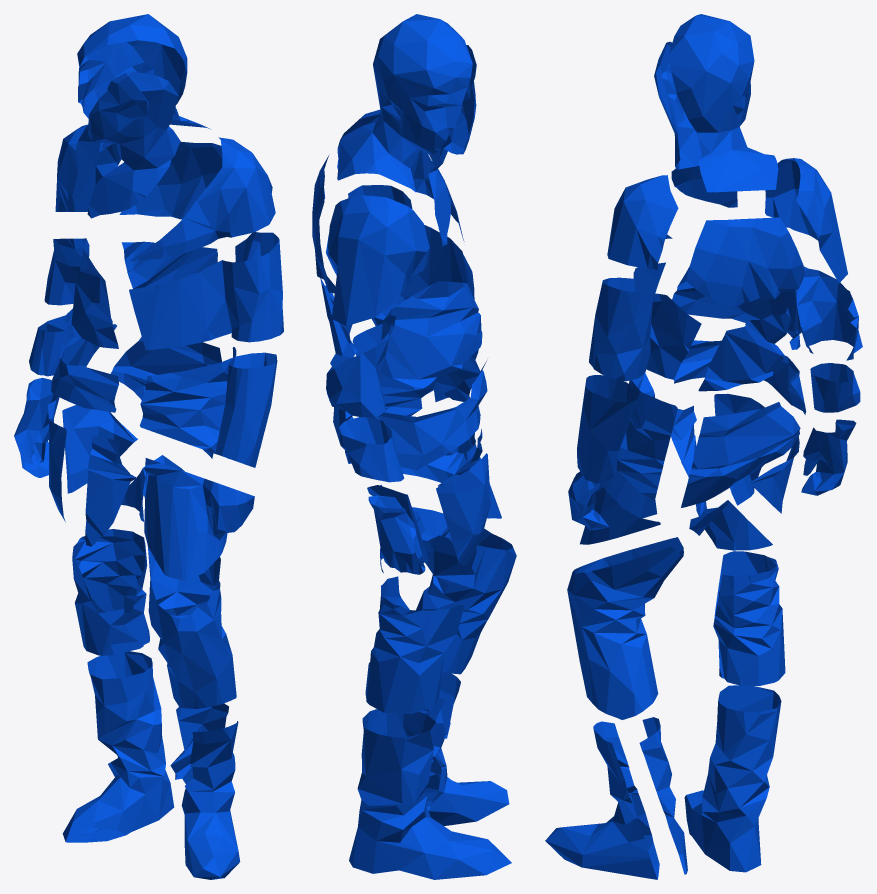
File: per2frac.fbx
3 renders of one model, left to right at view 1: azimuth 30°, elevation 25°; view 2: azimuth 150°, elevation 25°; view 3: azimuth 270°, elevation 25°, orthographic. The views are drawn at different scales.
Parts seen in each view (by area): view 1: lowpolyCharacterBorder_156_fracturepart6, lowpolyCharacterBorder_156_fracturepart2, lowpolyCharacterBorder_156_fracturepart14, lowpolyCharacterBorder_156_fracturepart8, lowpolyCharacterBorder_156_fracturepart5, lowpolyCharacterBorder_156_fracturepart1, lowpolyCharacterBorder_156_fracturepart18, lowpolyCharacterBorder_156_fracturepart12, lowpolyCharacterBorder_156_fracturepart4, lowpolyCharacterBorder_156_fracturepart20, lowpolyCharacterBorder_156_fracturepart13, lowpolyCharacterBorder_156_fracturepart7 (+11 smaller); view 2: lowpolyCharacterBorder_156_fracturepart6, lowpolyCharacterBorder_156_fracturepart20, lowpolyCharacterBorder_156_fracturepart13, lowpolyCharacterBorder_156_fracturepart3, lowpolyCharacterBorder_156_fracturepart18, lowpolyCharacterBorder_156_fracturepart8, lowpolyCharacterBorder_156_fracturepart4, lowpolyCharacterBorder_156_fracturepart19_4, lowpolyCharacterBorder_156_fracturepart11, lowpolyCharacterBorder_156_fracturepart14, lowpolyCharacterBorder_156_fracturepart2, lowpolyCharacterBorder_156_fracturepart19 (+8 smaller); view 3: lowpolyCharacterBorder_156_fracturepart8, lowpolyCharacterBorder_156_fracturepart20, lowpolyCharacterBorder_156_fracturepart6, lowpolyCharacterBorder_156_fracturepart14, lowpolyCharacterBorder_156_fracturepart2, lowpolyCharacterBorder_156_fracturepart18, lowpolyCharacterBorder_156_fracturepart7, lowpolyCharacterBorder_156_fracturepart4, lowpolyCharacterBorder_156_fracturepart16, lowpolyCharacterBorder_156_fracturepart13, lowpolyCharacterBorder_156_fracturepart3, lowpolyCharacterBorder_156_fracturepart12 (+11 smaller).
Part boxes in pixels (x1,y1,x2,y2): lowpolyCharacterBorder_156_fracturepart6: (62,651,174,842); lowpolyCharacterBorder_156_fracturepart2: (129,232,283,350); lowpolyCharacterBorder_156_fracturepart14: (139,347,277,467); lowpolyCharacterBorder_156_fracturepart8: (148,547,236,708); lowpolyCharacterBorder_156_fracturepart5: (86,71,180,218); lowpolyCharacterBorder_156_fracturepart1: (144,458,254,580); lowpolyCharacterBorder_156_fracturepart18: (72,529,149,655); lowpolyCharacterBorder_156_fracturepart12: (129,137,275,261); lowpolyCharacterBorder_156_fracturepart4: (181,721,240,879); lowpolyCharacterBorder_156_fracturepart20: (77,14,210,152); lowpolyCharacterBorder_156_fracturepart13: (44,238,118,348); lowpolyCharacterBorder_156_fracturepart7: (119,141,222,219); lowpolyCharacterBorder_156_fracturepart6: (349,709,511,879); lowpolyCharacterBorder_156_fracturepart20: (337,14,472,192); lowpolyCharacterBorder_156_fracturepart13: (326,281,482,417); lowpolyCharacterBorder_156_fracturepart3: (328,195,429,326); lowpolyCharacterBorder_156_fracturepart18: (365,576,463,713); lowpolyCharacterBorder_156_fracturepart8: (412,507,516,674); lowpolyCharacterBorder_156_fracturepart4: (423,671,509,825); lowpolyCharacterBorder_156_fracturepart19_4: (371,361,487,469); lowpolyCharacterBorder_156_fracturepart11: (436,453,490,566); lowpolyCharacterBorder_156_fracturepart14: (352,296,480,416); lowpolyCharacterBorder_156_fracturepart2: (326,185,474,299); lowpolyCharacterBorder_156_fracturepart19: (339,417,404,482); lowpolyCharacterBorder_156_fracturepart8: (567,537,683,719); lowpolyCharacterBorder_156_fracturepart20: (669,14,778,192); lowpolyCharacterBorder_156_fracturepart6: (684,685,781,872); lowpolyCharacterBorder_156_fracturepart14: (577,373,677,500); lowpolyCharacterBorder_156_fracturepart2: (589,262,701,381); lowpolyCharacterBorder_156_fracturepart18: (713,551,785,685); lowpolyCharacterBorder_156_fracturepart7: (686,217,804,307); lowpolyCharacterBorder_156_fracturepart4: (545,721,659,879); lowpolyCharacterBorder_156_fracturepart16: (681,402,800,507); lowpolyCharacterBorder_156_fracturepart13: (672,266,862,360); lowpolyCharacterBorder_156_fracturepart3: (765,158,847,283); lowpolyCharacterBorder_156_fracturepart12: (607,175,678,269).
Size of the model in its own units: 119 by 495 by 172.
